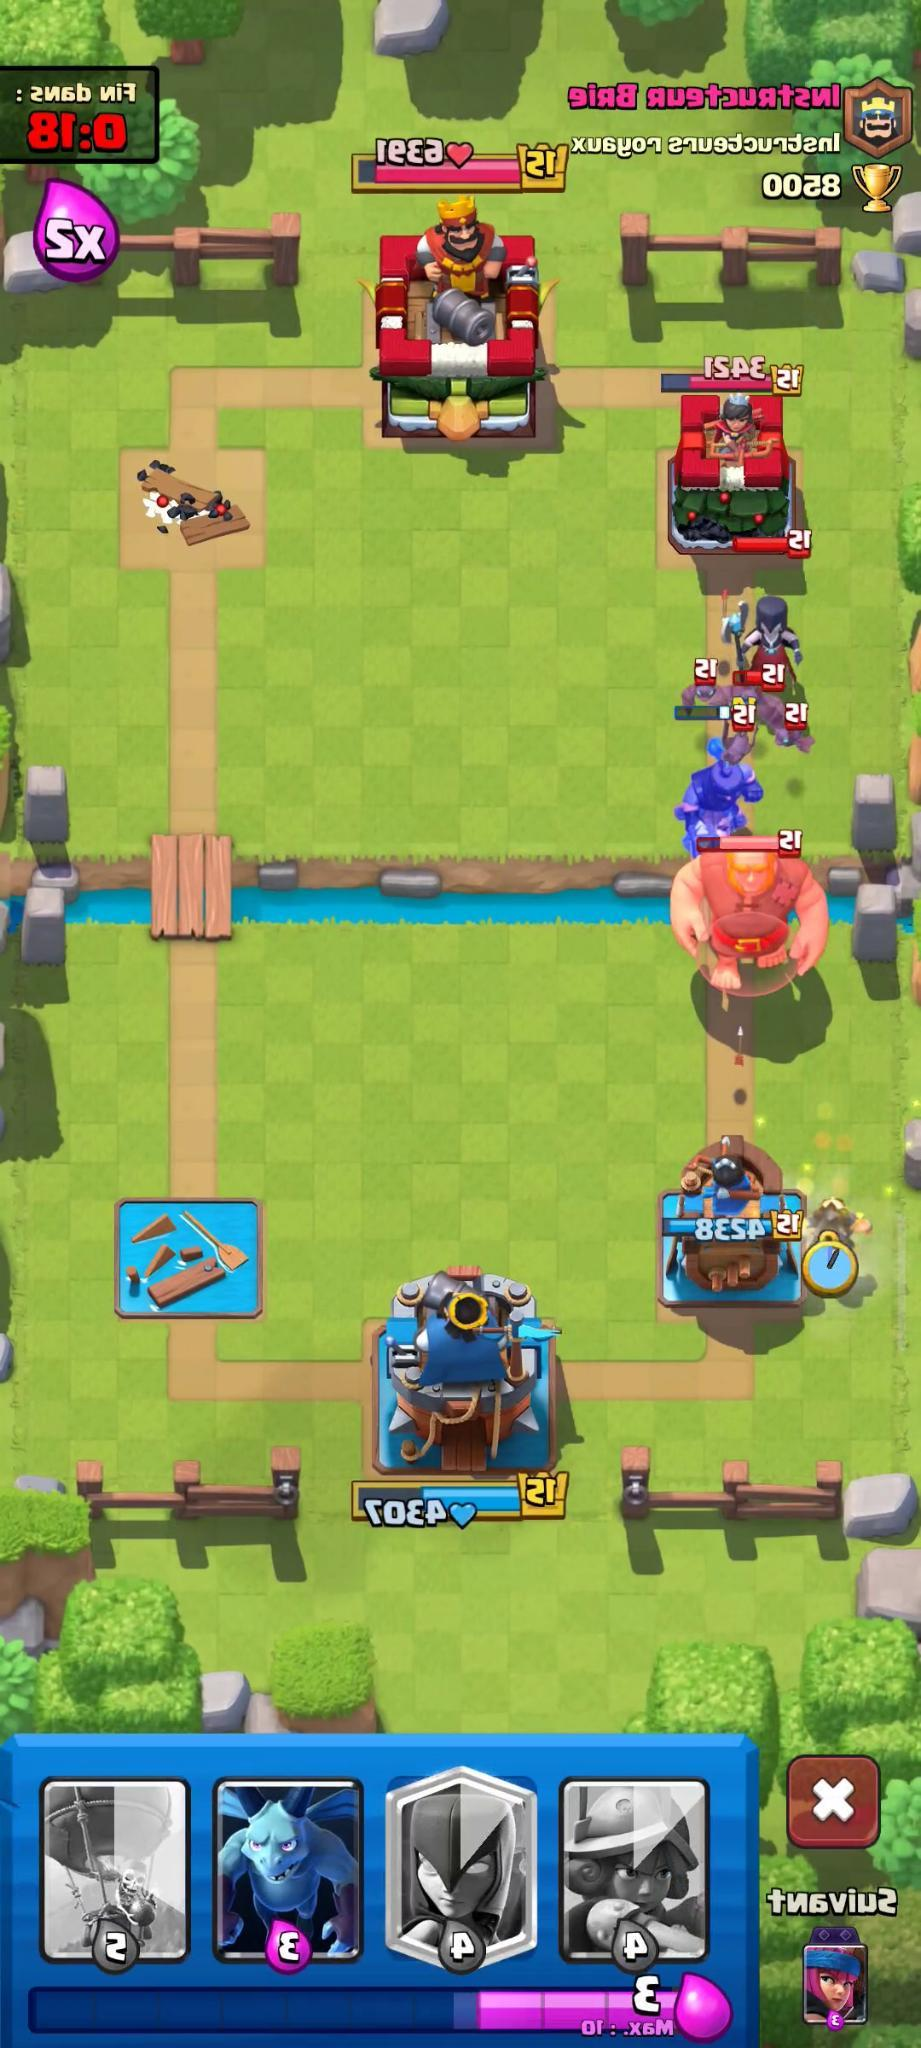enemy_bats: (672, 659, 729, 722), (767, 698, 819, 758)
enemy_giant: (665, 830, 836, 1006)
enemy_night_witch: (717, 531, 817, 671)
player_dark_prince: (665, 719, 772, 848)
player_electro_wizard: (795, 1185, 871, 1262)
